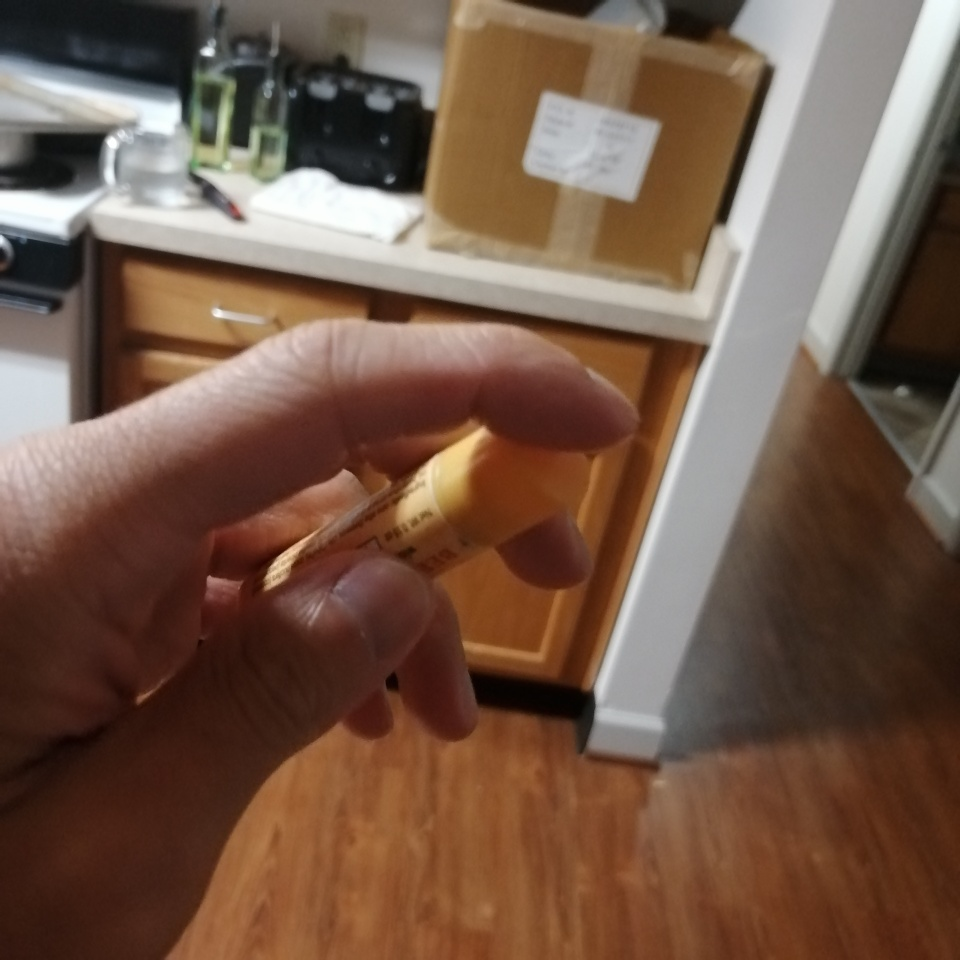chapstick: (238, 424, 590, 615)
